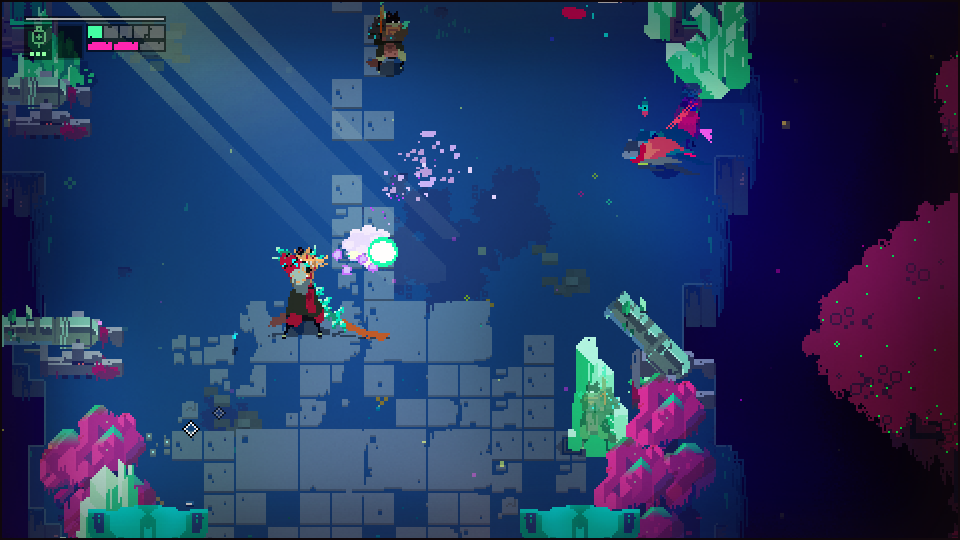hanged_man: (268, 246, 348, 336)
hanged_shot: (368, 236, 399, 263)
player: (617, 141, 683, 170)
